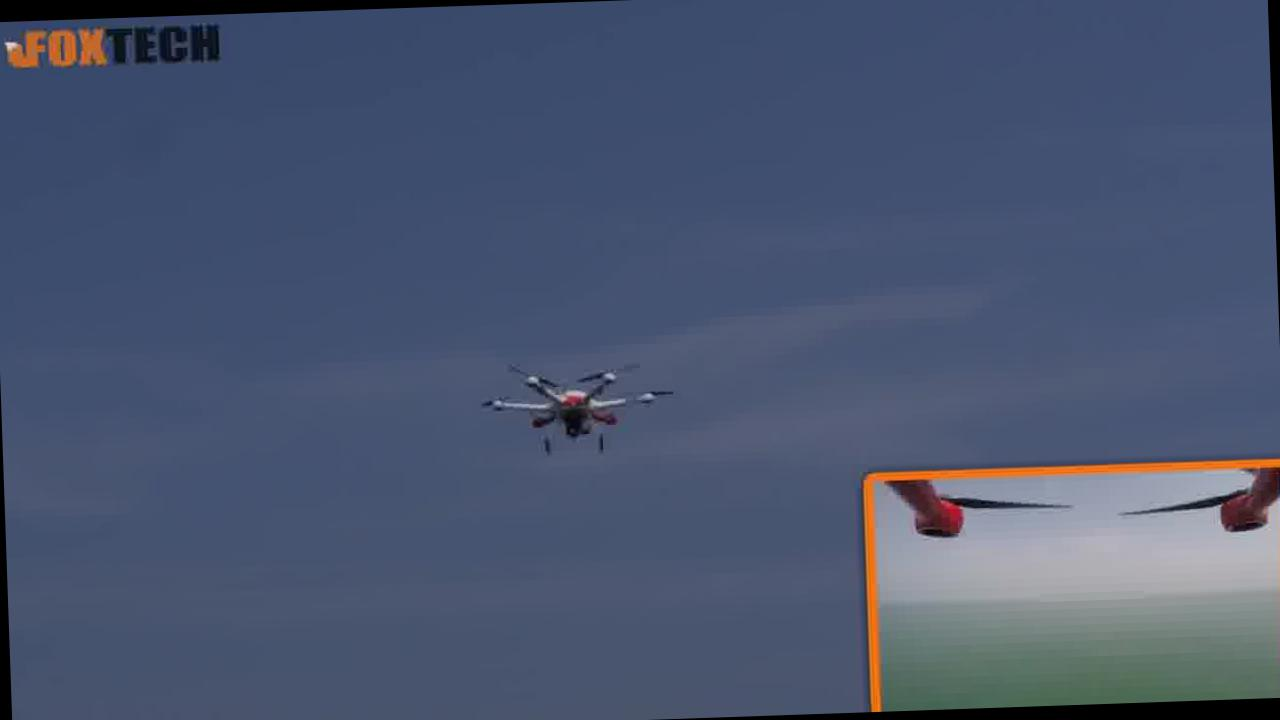drone: (476, 342, 680, 485)
